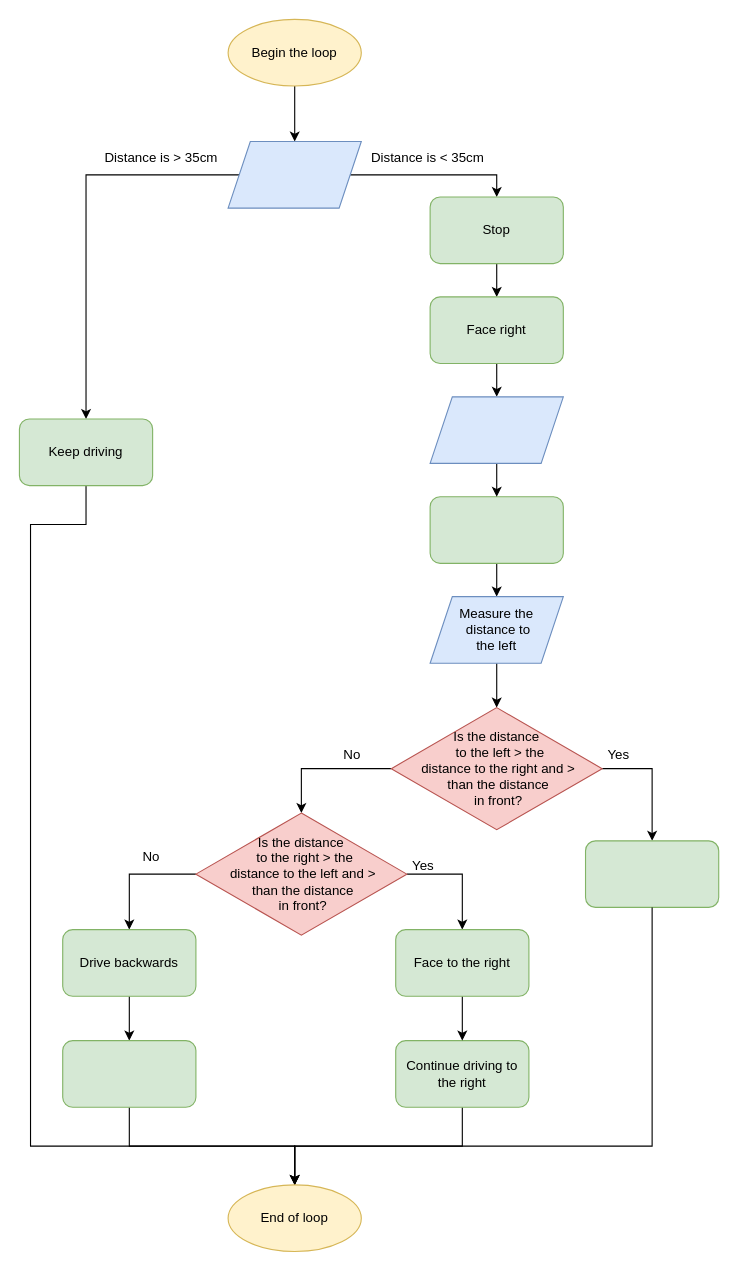
Some shapes in this 738 by 1271 pixel diagram are drawn without their labels. The centre of each missing label's shape, as x and y in pixels:
"Continue driving to the left" belongs at pixel 651 873.
"Face Left" belongs at pixel 496 529.
"Measure the distance to the right" belongs at pixel 496 429.
"Read the distance in front" belongs at pixel 294 174.
"Turn right and continue driving to the right" belongs at pixel 129 1073.
